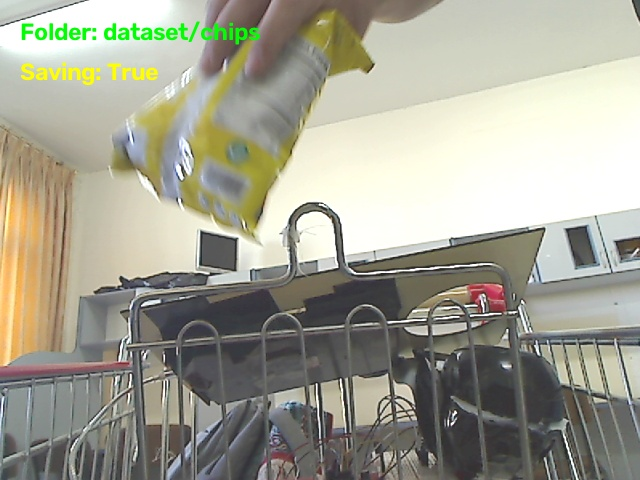chips: (111, 11, 372, 239)
